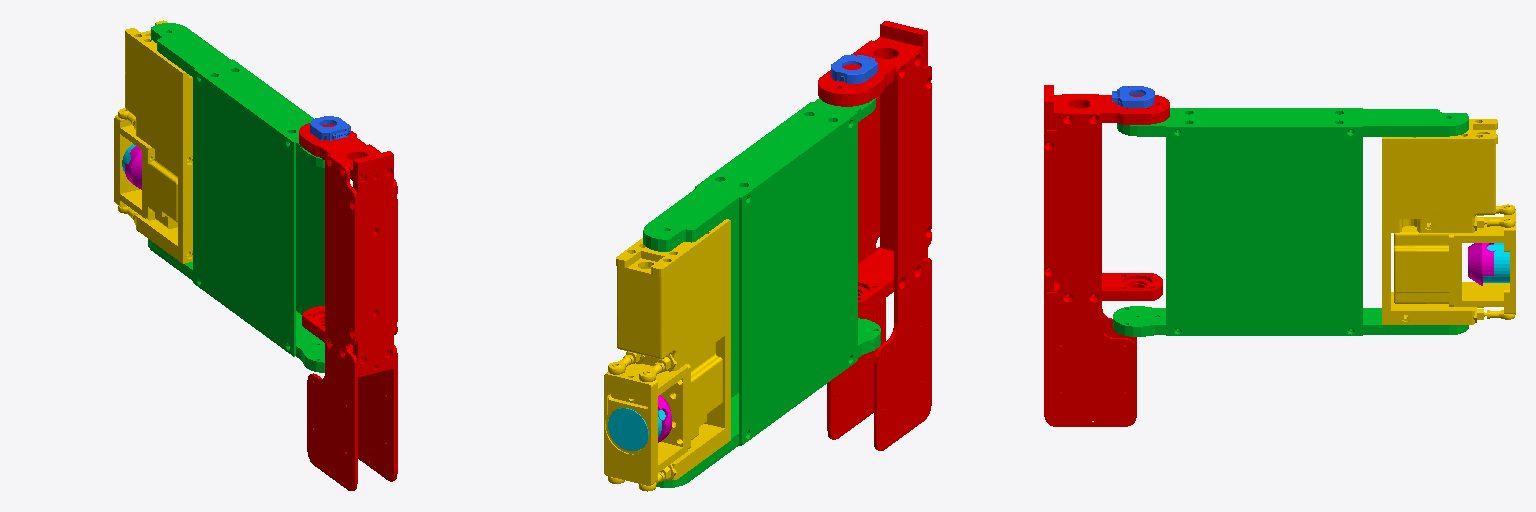
URDF robot description (P2D2-Left-Hand):
<?xml version="1.0" ?>
<robot name="P2D2-Left-Hand">
  <link name="Left_hand_link_base">
    <inertial>
      <origin xyz="1.3401999999999999E-06 31.313 -28.611" rpy="0 0 0"/>
      <mass value="0.58902"/>
      <inertia ixx="0.0028073" ixy="-2.209E-12" ixz="1.4526E-11" iyy="0.0026158" iyz="0.00013375" izz="0.00026433"/>
    </inertial>
    <visual>
      <origin xyz="0 0 0" rpy="0 0 0"/>
      <geometry>
        <mesh filename="Hand\meshes/visual/hand_link_base.STL"/>
      </geometry>
      <material name="Left_hand_link_base_red">
        <color rgba="1 0 0 1"/>
      </material>
    </visual>
    <collision>
      <origin xyz="0 0 0" rpy="0 0 0"/>
      <geometry>
        <mesh filename="Hand\meshes/collision/hand_link_base.STL"/>
      </geometry>
    </collision>
  </link>
  <link name="Left_hand_link_1">
    <inertial>
      <origin xyz="0.078245 123.00999999999999 -17.902" rpy="0 0 0"/>
      <mass value="0.9156"/>
      <inertia ixx="0.0061229" ixy="-3.976E-06" ixz="-8.986E-08" iyy="0.0012773" iyz="-1.541E-06" izz="0.0049578"/>
    </inertial>
    <visual>
      <origin xyz="0 0 0" rpy="0 0 0"/>
      <geometry>
        <mesh filename="Hand\meshes/visual/hand_link_1.STL"/>
      </geometry>
      <material name="Left_hand_link_1_green">
        <color rgba="0 0.8 0.2 1"/>
      </material>
    </visual>
    <collision>
      <origin xyz="0 0 0" rpy="0 0 0"/>
      <geometry>
        <mesh filename="Hand\meshes/collision/hand_link_1.STL"/>
      </geometry>
    </collision>
  </link>
  <link name="Left_laser_link">
    <inertial>
      <origin xyz="0 0 0" rpy="0 0 0"/>
      <mass value="0"/>
      <inertia ixx="0" ixy="0" ixz="0" iyy="0" iyz="0" izz="0"/>
    </inertial>
    <visual>
      <origin xyz="0 0 0" rpy="0 0 0"/>
      <geometry>
        <mesh filename="Hand\meshes/visual/laser_link.STL"/>
      </geometry>
      <material name="Left_laser_link_blue">
        <color rgba="0.2 0.45 1 1"/>
      </material>
    </visual>
    <collision>
      <origin xyz="0 0 0" rpy="0 0 0"/>
      <geometry>
        <mesh filename="Hand\meshes/collision/laser_link.STL"/>
      </geometry>
    </collision>
  </link>
  <link name="Left_hand_link_2">
    <inertial>
      <origin xyz="-0.20099 -17.898 -22.892" rpy="0 0 0"/>
      <mass value="0.51508"/>
      <inertia ixx="0.00066677" ixy="-1.2886E-06" ixz="2.8391E-07" iyy="0.00054582" iyz="2.8064E-06" izz="0.00026757"/>
    </inertial>
    <visual>
      <origin xyz="0 0 0" rpy="0 0 0"/>
      <geometry>
        <mesh filename="Hand\meshes/visual/hand_link_2.STL"/>
      </geometry>
      <material name="Left_hand_link_2_yellow">
        <color rgba="1 0.85 0 1"/>
      </material>
    </visual>
    <collision>
      <origin xyz="0 0 0" rpy="0 0 0"/>
      <geometry>
        <mesh filename="Hand\meshes/collision/hand_link_2.STL"/>
      </geometry>
    </collision>
  </link>
  <link name="Left_tool_rotate">
    <inertial>
      <origin xyz="-0.47146 66.03699999999999 1.2923" rpy="0 0 0"/>
      <mass value="0.013164"/>
      <inertia ixx="1.5074E-06" ixy="4.0748E-08" ixz="-5.9309E-08" iyy="2.5506E-06" iyz="-1.1169E-07" izz="1.6484E-06"/>
    </inertial>
    <visual>
      <origin xyz="0 0 0" rpy="0 0 0"/>
      <geometry>
        <mesh filename="Hand\meshes/visual/tool_rotate.STL"/>
      </geometry>
      <material name="Left_tool_rotate_magenta">
        <color rgba="1 0 0.85 1"/>
      </material>
    </visual>
    <collision>
      <origin xyz="0 0 0" rpy="0 0 0"/>
      <geometry>
        <mesh filename="Hand\meshes/collision/tool_rotate.STL"/>
      </geometry>
    </collision>
  </link>
  <link name="Left_tool_0">
    <inertial>
      <origin xyz="-0.018167 -24.185000000000002 0.049811999999999995" rpy="0 0 0"/>
      <mass value="0.028269"/>
      <inertia ixx="4.0894E-06" ixy="-2.9751E-09" ixz="-2.5563E-11" iyy="4.5453E-06" iyz="8.1573E-09" izz="4.0894E-06"/>
    </inertial>
    <visual>
      <origin xyz="0 0 0" rpy="0 0 0"/>
      <geometry>
        <mesh filename="Hand\meshes/visual/tool_0.STL"/>
      </geometry>
      <material name="Left_tool_0_cyan">
        <color rgba="0 0.9 1 1"/>
      </material>
    </visual>
    <collision>
      <origin xyz="0 0 0" rpy="0 0 0"/>
      <geometry>
        <mesh filename="Hand\meshes/collision/tool_0.STL"/>
      </geometry>
    </collision>
  </link>
  <joint name="Left_hand_link_base_to_hand_link_1" type="revolute">
    <origin xyz="0 80.5 0" rpy="0 0 0"/>
    <parent link="Left_hand_link_base"/>
    <child link="Left_hand_link_1"/>
    <axis xyz="0 0 1"/>
    <limit lower="-1.5707" upper="1.5707" effort="0" velocity="0"/>
  </joint>
  <joint name="Left_hand_link_base_to_laser_link" type="fixed">
    <origin xyz="0 358 -146.14" rpy="0 0 0"/>
    <parent link="Left_hand_link_base"/>
    <child link="Left_laser_link"/>
    <axis xyz="0 0 0"/>
  </joint>
  <joint name="Left_hand_link_1_to_hand_link_2" type="revolute">
    <origin xyz="0 270 0" rpy="0 0 0"/>
    <parent link="Left_hand_link_1"/>
    <child link="Left_hand_link_2"/>
    <axis xyz="0 0 1"/>
    <limit lower="-1.5707" upper="1.5707" effort="0" velocity="0"/>
  </joint>
  <joint name="Left_hand_link_2_to_tool_rotate" type="revolute">
    <origin xyz="0 -40.958 -55.129" rpy="0 0 0"/>
    <parent link="Left_hand_link_2"/>
    <child link="Left_tool_rotate"/>
    <axis xyz="0 1 0"/>
    <limit lower="-6.2831" upper="6.2831" effort="0" velocity="0"/>
  </joint>
  <joint name="Left_tool_rotate_to_tool_0" type="fixed">
    <origin xyz="0 107.96 0" rpy="0 0 0"/>
    <parent link="Left_tool_rotate"/>
    <child link="Left_tool_0"/>
    <axis xyz="0 0 0"/>
  </joint>
</robot>

--- What the picture shows (computed from the rendered views, not written in the file) ---
The picture shows the robot from 3 angles, left to right: view 1: azimuth 30°, elevation 25°; view 2: azimuth 150°, elevation 25°; view 3: azimuth 270°, elevation 25°; orthographic projection.
Model P2D2-Left-Hand with 6 links and 5 joints (3 revolute, 2 fixed), rooted at Left_hand_link_base, posed every joint at zero.
Visible links, largest first — view 1: Left_hand_link_1, Left_hand_link_base, Left_hand_link_2, Left_laser_link, Left_tool_rotate; view 2: Left_hand_link_1, Left_hand_link_base, Left_hand_link_2, Left_tool_0, Left_laser_link; view 3: Left_hand_link_1, Left_hand_link_base, Left_hand_link_2, Left_tool_rotate, Left_laser_link, Left_tool_0.
Boxes of the visible links, box(x1,y1,x2,y2) form: Left_hand_link_1: box(148, 23, 324, 372); Left_hand_link_base: box(299, 123, 397, 490); Left_hand_link_2: box(114, 20, 192, 263); Left_laser_link: box(310, 116, 350, 141); Left_tool_rotate: box(125, 146, 141, 189); Left_hand_link_1: box(643, 98, 880, 487); Left_hand_link_base: box(818, 21, 931, 450); Left_hand_link_2: box(604, 219, 730, 491); Left_tool_0: box(608, 408, 665, 450); Left_laser_link: box(831, 54, 877, 83); Left_hand_link_1: box(1113, 108, 1468, 336); Left_hand_link_base: box(1044, 85, 1169, 426); Left_hand_link_2: box(1382, 119, 1515, 324); Left_tool_rotate: box(1468, 243, 1493, 285); Left_laser_link: box(1112, 86, 1154, 107); Left_tool_0: box(1483, 243, 1509, 282).
Size in the robot's own frame: 42.43 by 408 by 309 metres.
Meshes: 6 distinct files referenced, 6 mesh visuals loaded (6 binary STL).
